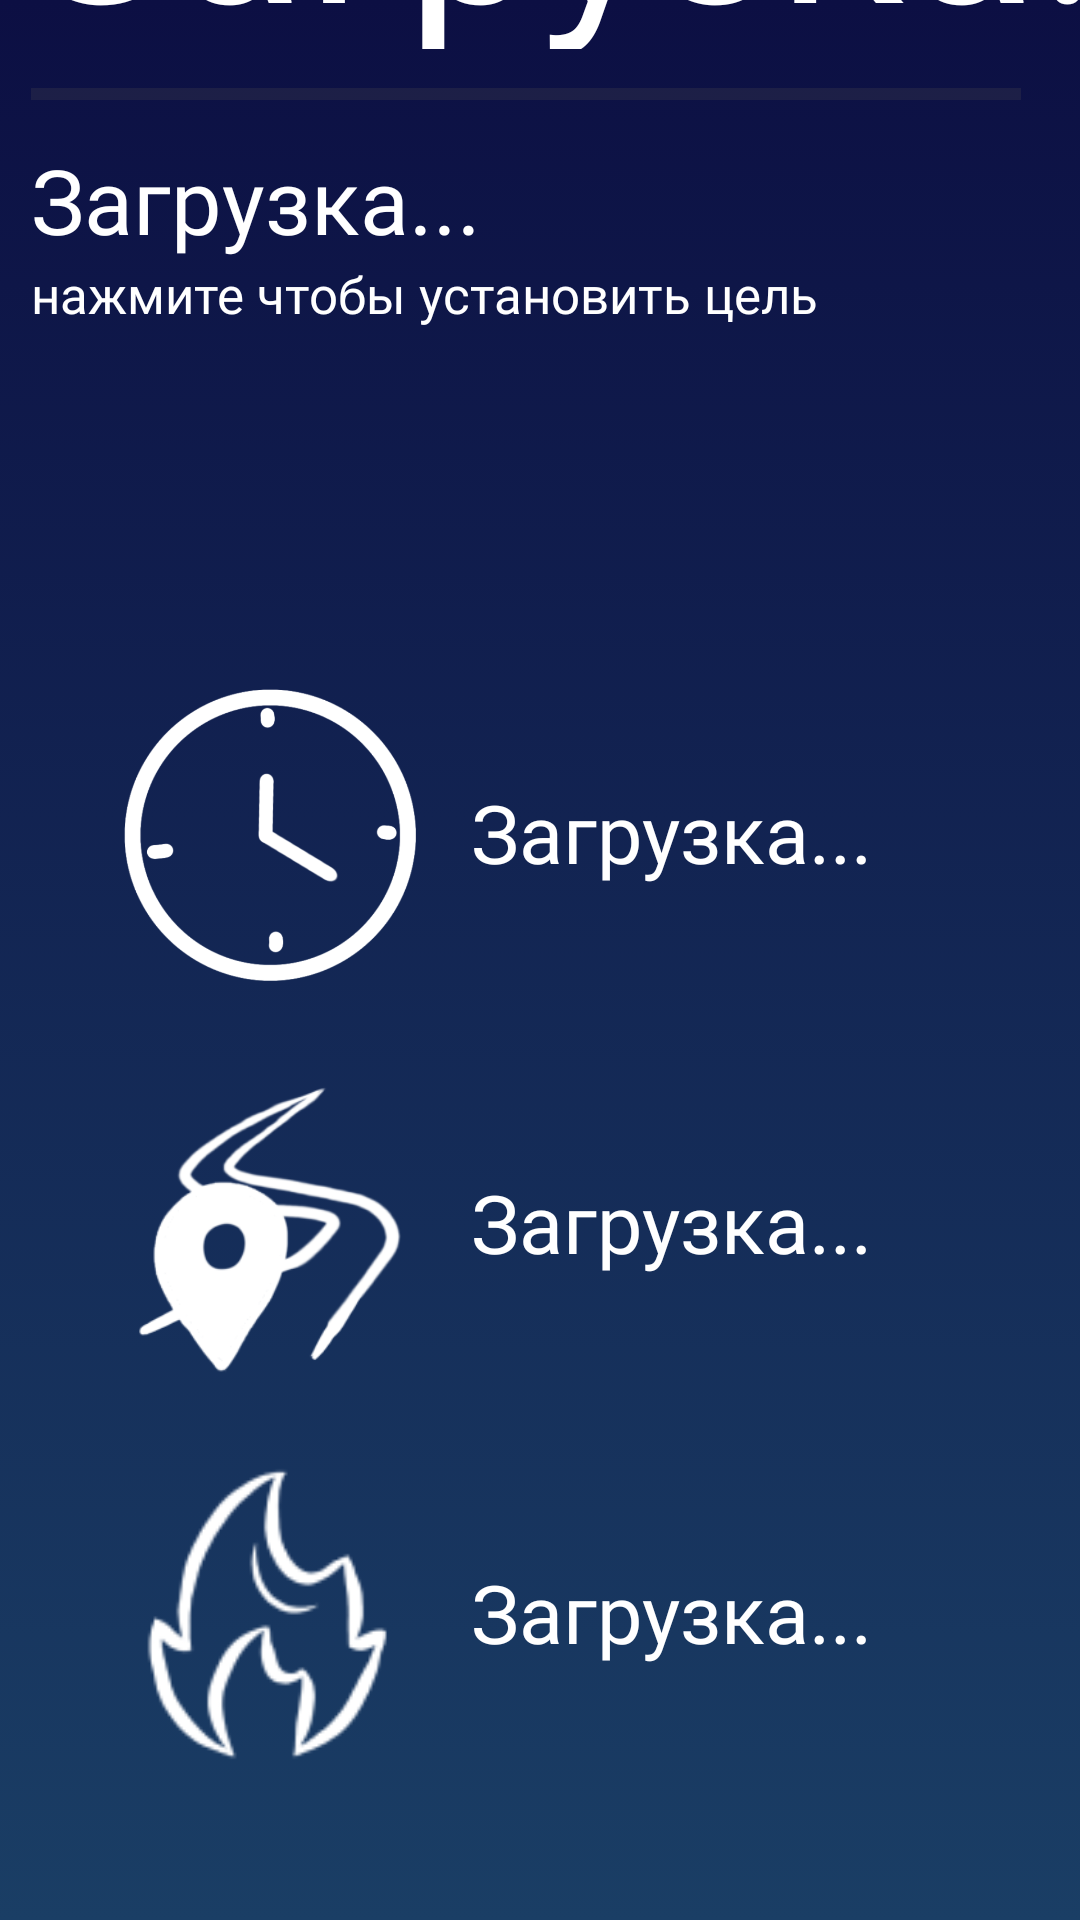

Where to tap for icons on this 1080×1920 app screen, as (x=x, y=y):
calories: (x=267, y=1614)
distation: (x=270, y=1230)
time: (x=270, y=835)
